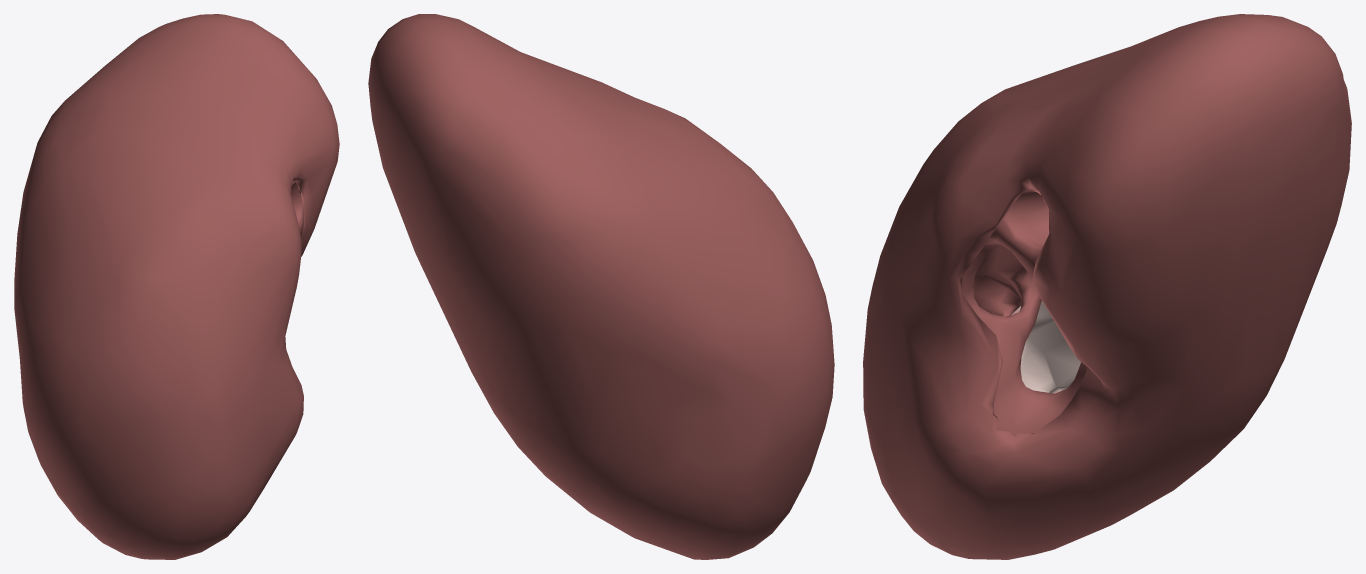
The model's file is vh_f_kidney_r-20.glb.
The picture shows the model from 3 angles, left to right: view 1: azimuth 30°, elevation 25°; view 2: azimuth 150°, elevation 25°; view 3: azimuth 270°, elevation 25°; orthographic projection. The views are drawn at different scales.
Visible parts, largest first — view 1: VH_F_kidney_capsule_R; view 2: VH_F_kidney_capsule_R; view 3: VH_F_kidney_capsule_R, VH_F_hilum_of_kidney_R, VH_F_renal_column_R.
Boxes of the visible parts, left/top/right/bottom form: VH_F_kidney_capsule_R: left=14, top=14, right=339, bottom=559; VH_F_kidney_capsule_R: left=368, top=14, right=834, bottom=559; VH_F_kidney_capsule_R: left=863, top=14, right=1351, bottom=559; VH_F_hilum_of_kidney_R: left=961, top=189, right=1087, bottom=436; VH_F_renal_column_R: left=1017, top=301, right=1080, bottom=392.
Size of the model in its own units: 0.0733 by 0.0978 by 0.0695.
